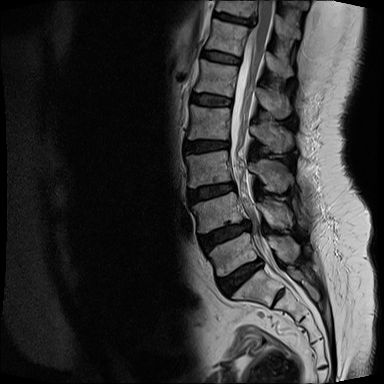Lumbar Disc Bulge (LDB): (211, 250, 274, 303), (191, 213, 261, 259), (184, 175, 240, 210)
Normal IVD: (178, 131, 235, 159), (194, 44, 245, 69), (187, 87, 236, 112)
Spinal Stenosis (SS): (240, 9, 264, 34), (251, 249, 271, 277), (225, 171, 242, 200), (240, 212, 254, 235)
Thoracic Disc Bulge (TDB): (202, 11, 264, 30)
